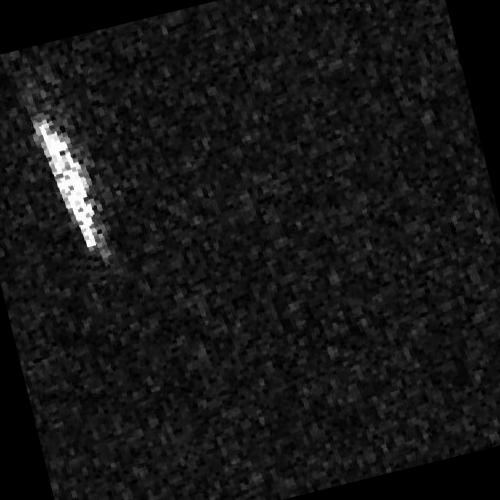ship: (36, 118, 98, 250)
